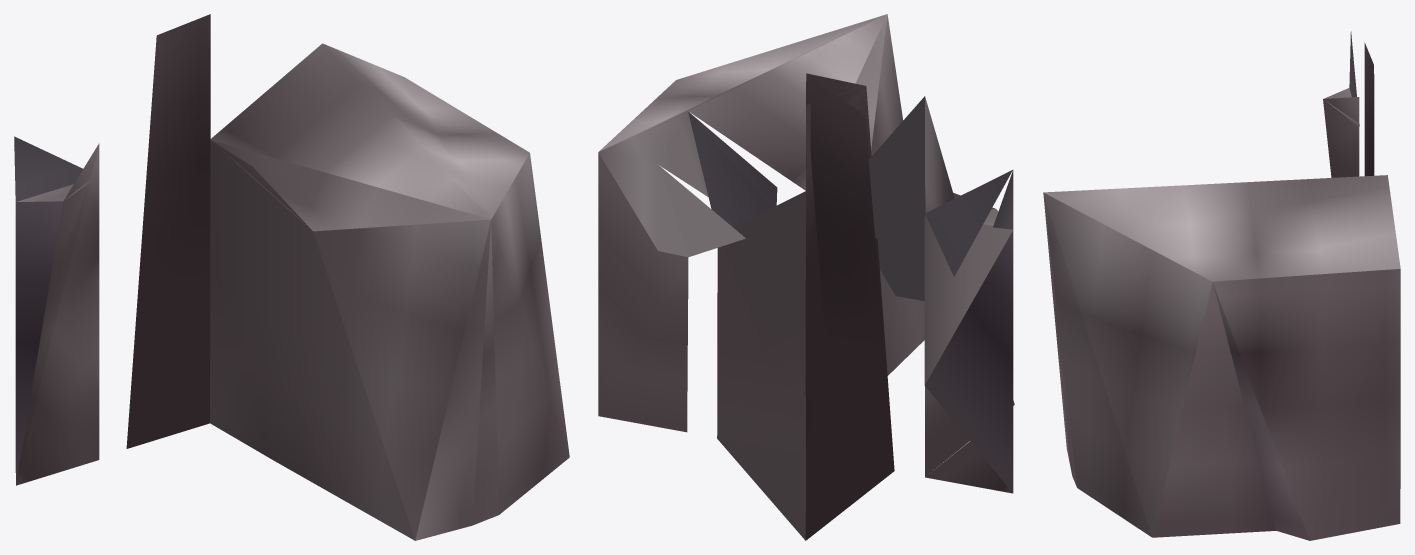
The picture shows the model from 3 angles, left to right: view 1: azimuth 30°, elevation 25°; view 2: azimuth 150°, elevation 25°; view 3: azimuth 270°, elevation 25°; orthographic projection. The views are drawn at different scales.
Parts seen in each view (by area): view 1: Mesh_0; view 2: Mesh_0; view 3: Mesh_0.
Boxes of the visible parts, x1,y1,x2,y2 form: Mesh_0: [14, 14, 569, 540]; Mesh_0: [598, 14, 1014, 540]; Mesh_0: [1043, 31, 1400, 540].
Bounding box in the file's own units: 37.82 × 39.58 × 28.42.
1 material, 1 textured.
